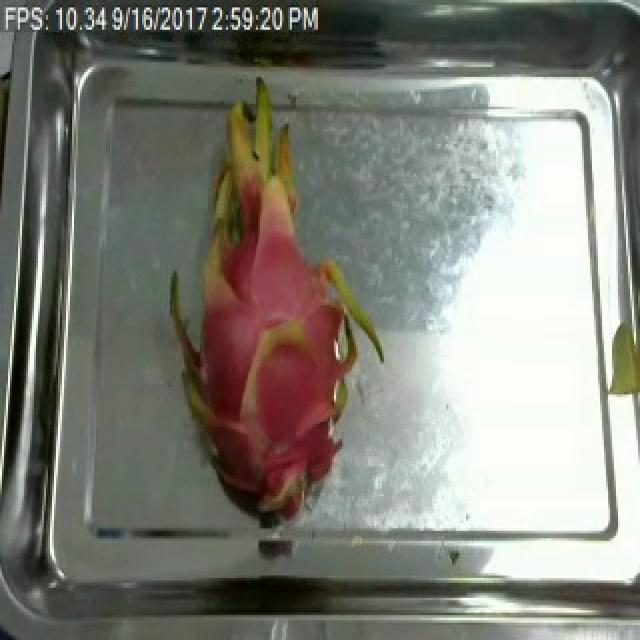fruit: (150, 99, 402, 526)
